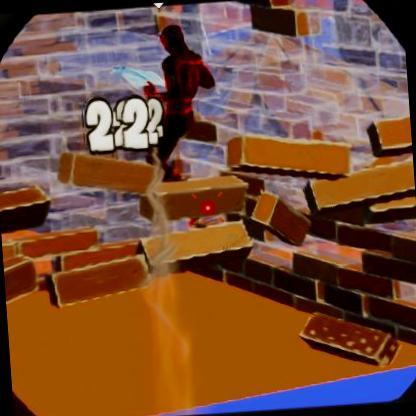person: (156, 21, 222, 166)
